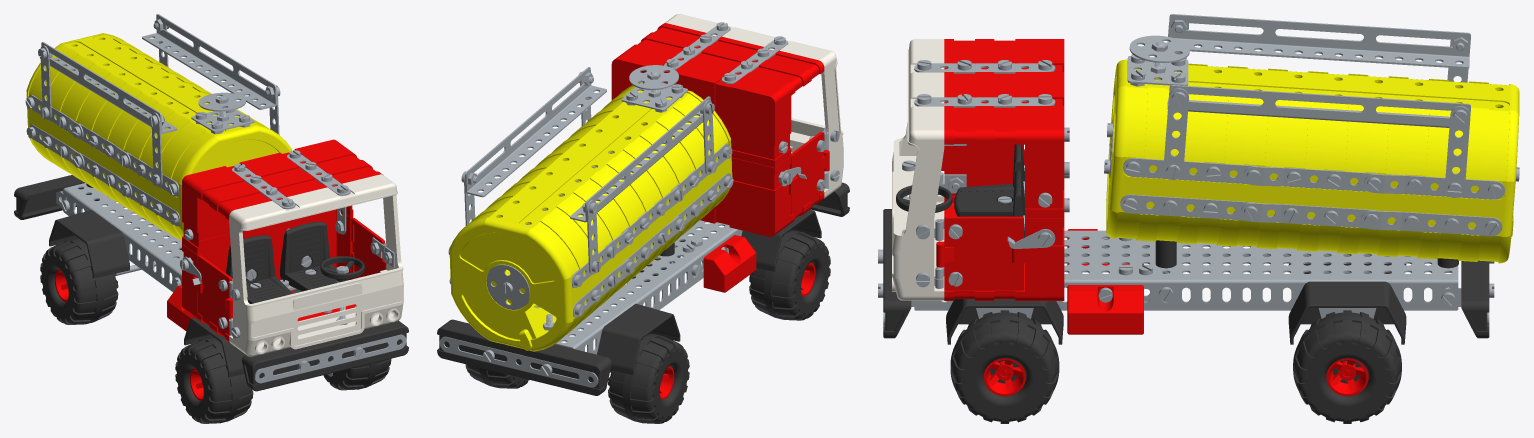
The picture shows the model from 3 angles, left to right: view 1: azimuth 30°, elevation 25°; view 2: azimuth 150°, elevation 25°; view 3: azimuth 270°, elevation 25°; orthographic projection. The views are drawn at different scales.
Parts seen in each view (by area): view 1: Zylindersegment (×8), Reifen 54 x 10 x 31 (×3), Frontscheibe LKW, LKW Rückwand (×2), Kühlergrill LKW, Winkelstab 15 (×2), Stoßstange (×2), Zylinderrückwand (×2), Sitz (×4), LKW Mittelteil flach (×2), Lochband 7 (×8), Kotflügel (×2) (+9 smaller); view 2: Zylindersegment (×8), LKW Rückwand (×2), Reifen 54 x 10 x 31 (×3), Zylinderrückwand (×2), Winkelstab 15 (×2), Stoßstange (×2), Kotflügel (×2), Winkelplatte 5 x 11 (×2), LKW Mittelteil flach, Lochband 7 (×8), Frontscheibe LKW, Zylinderrückwand offen (+9 smaller); view 3: Zylindersegment (×8), Reifen 54 x 10 x 31 (×2), Winkelstab 15 (×2), Winkelplatte 5 x 11 (×2), Lochband 7 (×8), Zylinderrückwand (×3), LKW Rückwand (×2), Tür (×2), Frontscheibe LKW, LKW Mittelteil flach (×2), Kotflügel (×2), Winkelplatte 5 x 5 (+9 smaller).
Boxes of the visible parts, x1,y1,x2,y2 form: Zylindersegment (×8): (40,41,258,240); Reifen 54 x 10 x 31 (×3): (40,238,391,423); Frontscheibe LKW: (229,174,403,321); LKW Rückwand (×2): (182,139,353,319); Kühlergrill LKW: (229,284,403,356); Winkelstab 15 (×2): (41,14,276,133); Stoßstange (×2): (14,175,408,391); Zylinderrückwand (×2): (26,33,292,206); Sitz (×4): (226,222,336,303); LKW Mittelteil flach (×2): (197,151,382,342); Lochband 7 (×8): (28,94,350,226); Kotflügel (×2): (49,210,245,377); Zylindersegment (×8): (478,94,718,335); LKW Rückwand (×2): (611,47,791,237); Reifen 54 x 10 x 31 (×3): (465,230,830,423); Zylinderrückwand (×2): (449,82,731,300); Winkelstab 15 (×2): (465,67,710,222); Stoßstange (×2): (437,182,849,395); Kotflügel (×2): (597,209,821,375); Winkelplatte 5 x 11 (×2): (593,220,742,318); LKW Mittelteil flach: (631,23,824,95); Lochband 7 (×8): (572,26,788,317); Frontscheibe LKW: (664,14,843,157); Zylinderrückwand offen: (450,273,585,351); Zylindersegment (×8): (1146,63,1479,261); Reifen 54 x 10 x 31 (×2): (950,310,1401,423); Winkelstab 15 (×2): (1167,14,1470,127); Winkelplatte 5 x 11 (×2): (914,230,1357,310); Lochband 7 (×8): (914,63,1504,236); Zylinderrückwand (×3): (1106,59,1519,240); LKW Rückwand (×2): (1025,39,1064,300); Tür (×2): (936,144,1031,290); Frontscheibe LKW: (892,39,944,254); LKW Mittelteil flach (×2): (944,39,1024,300); Kotflügel (×2): (946,281,1406,344); Winkelplatte 5 x 5: (1357,253,1458,310).
Bounding box in the file's own units: 0.1312 × 0.1813 × 0.3184.
